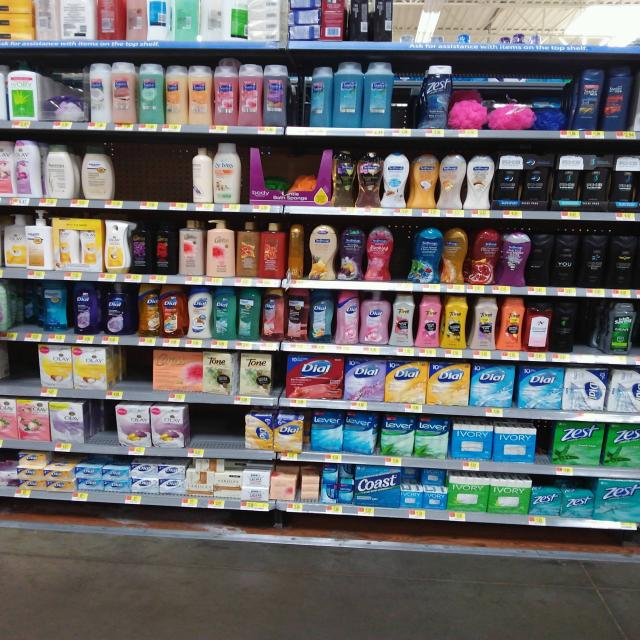void: (189, 407, 243, 458), (120, 137, 158, 209), (392, 54, 422, 138), (111, 346, 150, 402), (0, 281, 36, 341), (160, 137, 188, 210), (0, 343, 33, 398), (87, 400, 113, 455)
